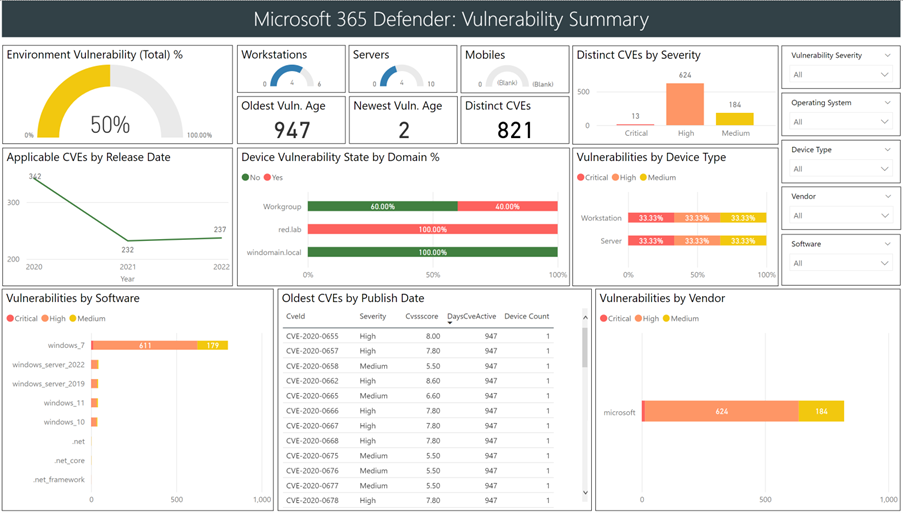

The dashboard page shown, as its layout file describes it:
{"tool":"powerbi","page":{"name":"Vulnerability Summary","canvas":[1280,720],"ordinal":3},"visuals":[{"type":"textbox","box":[11.9,0,1258.6,51],"z":0},{"type":"lineChart","title":"Applicable CVEs by Release Date","fields":{"Category":["CveData.PublishedDate.Variation.Date Hierarchy.Year","CveData.PublishedDate.Variation.Date Hierarchy.Month"],"Y":["Count(DeviceVulnerabilities.Cveid)"]},"box":[12.4,206.1,322.6,193.7],"z":1000},{"type":"columnChart","title":"Distinct CVEs by Severity","fields":{"Category":["DeviceVulnerabilities.Vulnerabilityseveritylevel"],"Y":["Count(DeviceVulnerabilities.Cveid)"]},"box":[810.8,62.8,288.6,138.7],"z":2000},{"type":"gauge","title":"Workstations","fields":{"MaxValue":["aaMeasures.DevicesOnboarded"],"Y":["aaMeasures.VulnerableDeviceCount"]},"box":[341.1,62.6,151.8,66.9],"z":3000},{"type":"gauge","title":"Servers","fields":{"Y":["aaMeasures.VulnerableDeviceCount"],"MaxValue":["aaMeasures.DevicesOnboarded"]},"box":[497.6,62.6,151.8,66.9],"z":4000},{"type":"card","title":"Oldest Vuln. Age","fields":{"Values":["Max(CveData.DaysCveActive)"]},"box":[341.1,134.2,151.8,66.9],"z":5000},{"type":"card","title":"Newest Vuln. Age","fields":{"Values":["Min(CveData.DaysCveActive)"]},"box":[498.3,134.2,151.8,66.9],"z":6000},{"type":"gauge","title":"Mobiles","fields":{"MaxValue":["aaMeasures.DevicesOnboarded"],"Y":["aaMeasures.VulnerableDeviceCount"]},"box":[654.7,62.8,151.8,66.7],"z":7000},{"type":"card","title":"Distinct CVEs","fields":{"Values":["Count(DeviceVulnerabilities.Cveid)"]},"box":[654.7,134.2,151.8,66.9],"z":8000},{"type":"hundredPercentStackedBarChart","title":"Vulnerabilities by Device Type","fields":{"Category":["OSVersions.DeviceType"],"Y":["aaMeasures.VulnerableDeviceCount"],"Series":["DeviceVulnerabilities.Vulnerabilityseveritylevel"]},"box":[810.8,206.1,288.6,193.7],"z":9000},{"type":"hundredPercentStackedBarChart","title":"Device Vulnerability State by Domain %","fields":{"Y":["aaMeasures.DevicesOnboarded"],"Category":["Devices.DomainName"],"Series":["Devices.IsVulnerable"]},"box":[340.9,206.1,465.9,193.7],"z":10000},{"type":"gauge","title":"Environment Vulnerability (Total) %","fields":{"MaxValue":["aaMeasures.DevicesOnboarded"],"Y":["aaMeasures.VulnerableDevices%"]},"box":[12.1,62.6,322.9,138.6],"z":11000},{"type":"barChart","title":"Vulnerabilities by Vendor","fields":{"Category":["DeviceVulnerabilities.Softwarevendor"],"Series":["DeviceVulnerabilities.Vulnerabilityseveritylevel"],"Y":["Count(DeviceVulnerabilities.Cveid)"]},"box":[842.9,404.4,427.3,311.5],"z":12000},{"type":"tableEx","title":"Oldest CVEs by Publish Date","fields":{"Values":["DeviceVulnerabilities.Cveid","CVESeveritySort.Severity","DeviceVulnerabilities.Cvssscore","Sum(CveData.DaysCveActive)","Count(DeviceVulnerabilities.Deviceid)"]},"box":[397.9,404.4,439.8,311.5],"z":13000},{"type":"barChart","title":"Vulnerabilities by Software","fields":{"Series":["DeviceVulnerabilities.Vulnerabilityseveritylevel"],"Category":["DeviceVulnerabilities.Softwarename"],"Y":["Count(DeviceVulnerabilities.Cveid)"]},"box":[11.8,404.4,380.9,311.5],"z":14000},{"type":"slicer","fields":{"Values":["CVESeveritySort.Severity"]},"box":[1103.7,62.9,166.8,60.9],"z":15000},{"type":"slicer","fields":{"Values":["OSVersions.OsName"]},"box":[1103.7,129.1,166.8,60.9],"z":16000},{"type":"slicer","fields":{"Values":["OSVersions.DeviceType"]},"box":[1103.7,195.3,166.8,60.9],"z":17000},{"type":"slicer","fields":{"Values":["DeviceVulnerabilities.Softwarevendor"]},"box":[1104,261.1,167.5,60.9],"z":18000},{"type":"slicer","fields":{"Values":["DeviceVulnerabilities.Softwarename"]},"box":[1104,327.9,166.9,72],"z":19000}]}

Visuals, with their boxes in screenshot pixels (x1, y1, x2, y2), scaled from the page's 1280x720 canvas onto the 903x513 screenshot:
textbox: <bbox>8, 0, 896, 36</bbox>
"Applicable CVEs by Release Date" lineChart: <bbox>9, 147, 236, 285</bbox>
"Distinct CVEs by Severity" columnChart: <bbox>572, 45, 776, 144</bbox>
"Workstations" gauge: <bbox>241, 45, 348, 92</bbox>
"Servers" gauge: <bbox>351, 45, 458, 92</bbox>
"Oldest Vuln. Age" card: <bbox>241, 96, 348, 143</bbox>
"Newest Vuln. Age" card: <bbox>352, 96, 459, 143</bbox>
"Mobiles" gauge: <bbox>462, 45, 569, 92</bbox>
"Distinct CVEs" card: <bbox>462, 96, 569, 143</bbox>
"Vulnerabilities by Device Type" hundredPercentStackedBarChart: <bbox>572, 147, 776, 285</bbox>
"Device Vulnerability State by Domain %" hundredPercentStackedBarChart: <bbox>240, 147, 569, 285</bbox>
"Environment Vulnerability (Total) %" gauge: <bbox>9, 45, 236, 143</bbox>
"Vulnerabilities by Vendor" barChart: <bbox>595, 288, 896, 510</bbox>
"Oldest CVEs by Publish Date" tableEx: <bbox>281, 288, 591, 510</bbox>
"Vulnerabilities by Software" barChart: <bbox>8, 288, 277, 510</bbox>
slicer - CVESeveritySort.Severity: <bbox>779, 45, 896, 88</bbox>
slicer - OSVersions.OsName: <bbox>779, 92, 896, 135</bbox>
slicer - OSVersions.DeviceType: <bbox>779, 139, 896, 183</bbox>
slicer - DeviceVulnerabilities.Softwarevendor: <bbox>779, 186, 897, 229</bbox>
slicer - DeviceVulnerabilities.Softwarename: <bbox>779, 234, 897, 285</bbox>
